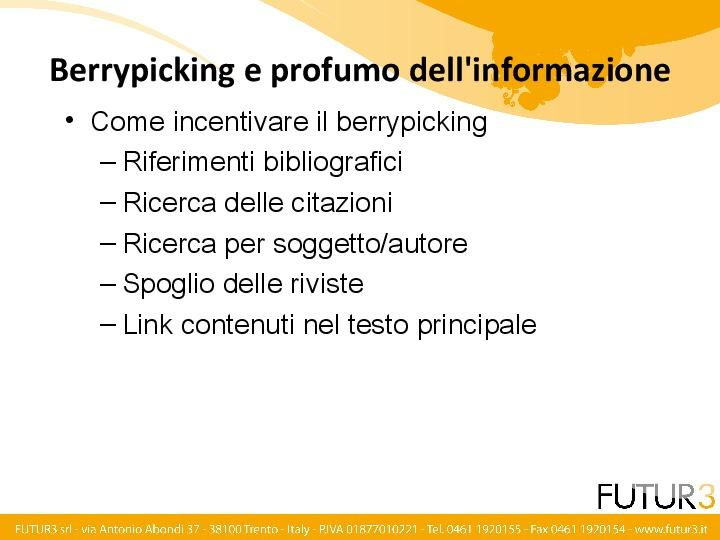paragraph: (80, 101, 571, 355)
title: (28, 43, 678, 96)
